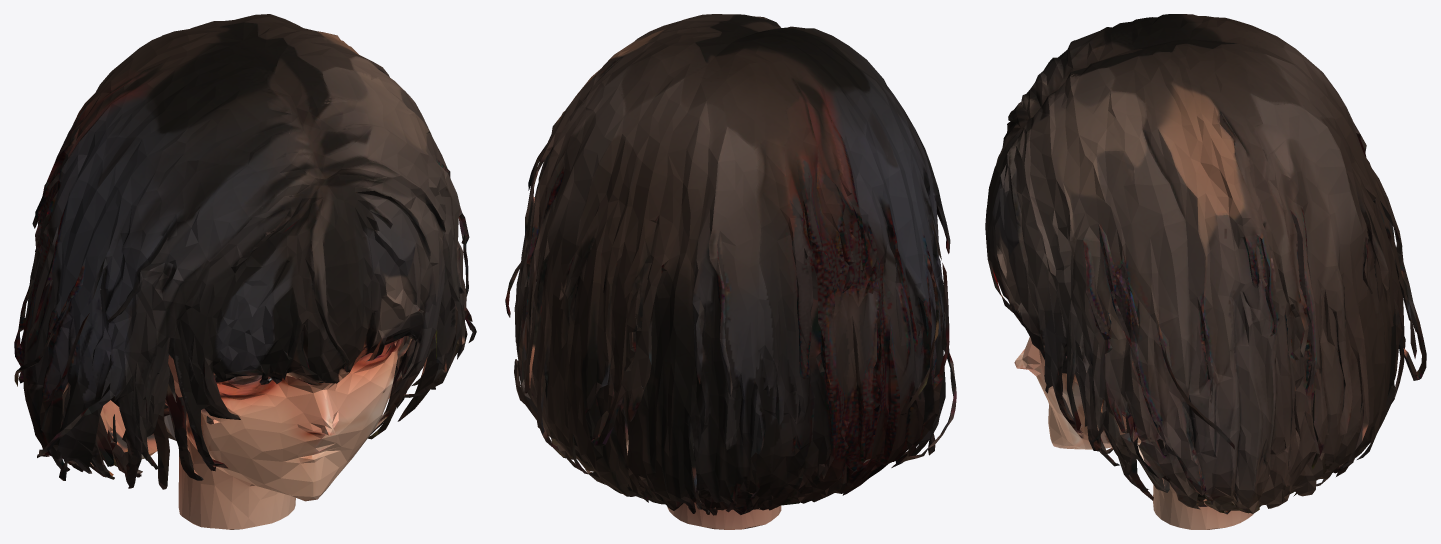
File: side_h_tamori_repaired_atlas.glb
3 views of the same model, side by side, from view 1: azimuth 30°, elevation 25°; view 2: azimuth 150°, elevation 25°; view 3: azimuth 270°, elevation 25° (orthographic). The views are drawn at different scales.
Parts seen in each view (by area): view 1: temp_mesh.ply; view 2: temp_mesh.ply; view 3: temp_mesh.ply.
Boxes of the visible parts, <box> form: temp_mesh.ply: <box>14,14,476,529</box>; temp_mesh.ply: <box>505,14,956,529</box>; temp_mesh.ply: <box>985,14,1426,529</box>.
Size of the model in its own units: 1.86 by 1.97 by 1.68.
1 material, 1 textured.
